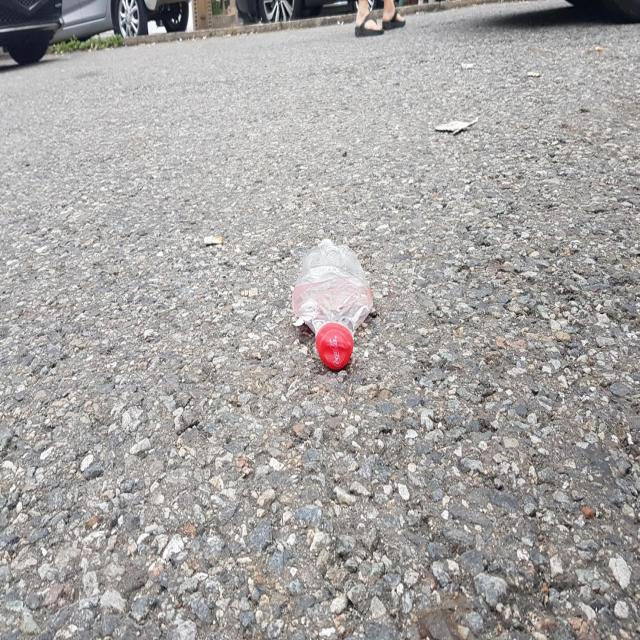plastic: (292, 238, 373, 370)
